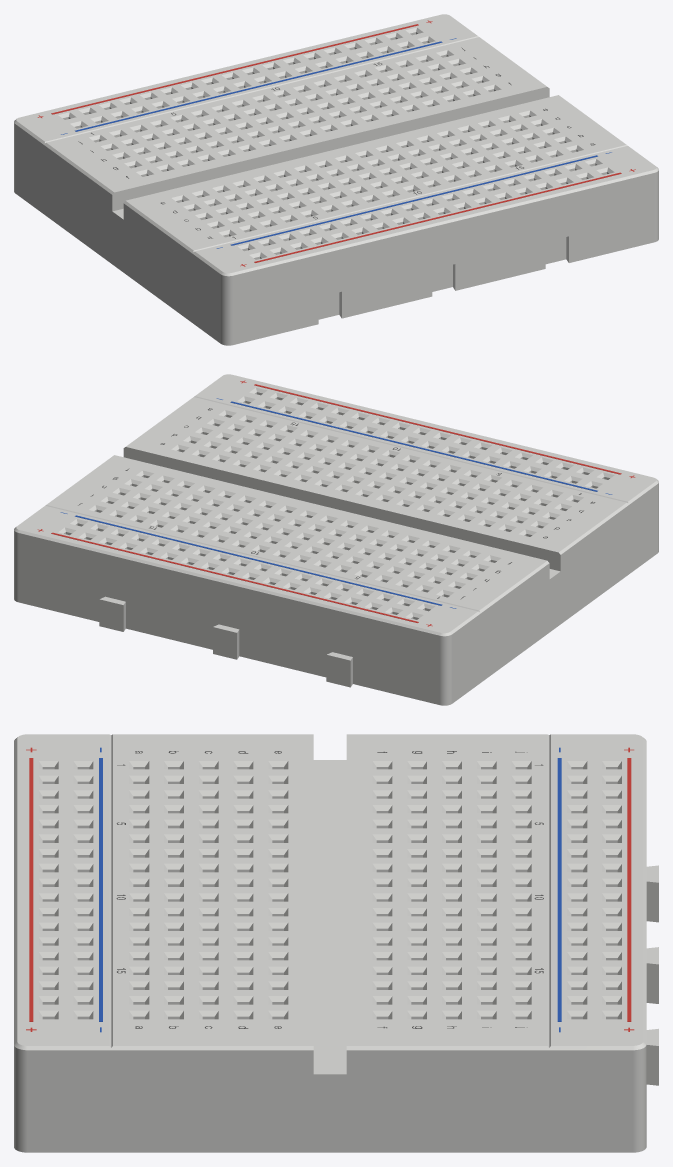
File: breadboard.glb
The picture shows the model from 3 angles, top to bottom: view 1: azimuth 30°, elevation 25°; view 2: azimuth 150°, elevation 25°; view 3: azimuth 270°, elevation 25°; orthographic projection. The views are drawn at different scales.
Parts seen in each view (by area): view 1: breadboard; view 2: breadboard; view 3: breadboard.
Part boxes in pixels (x1,y1,x2,y2): breadboard: (14, 14, 658, 345); breadboard: (14, 374, 658, 705); breadboard: (14, 734, 658, 1152).
Bounding box in the file's own units: 54.36 × 8.52 × 47.12.
